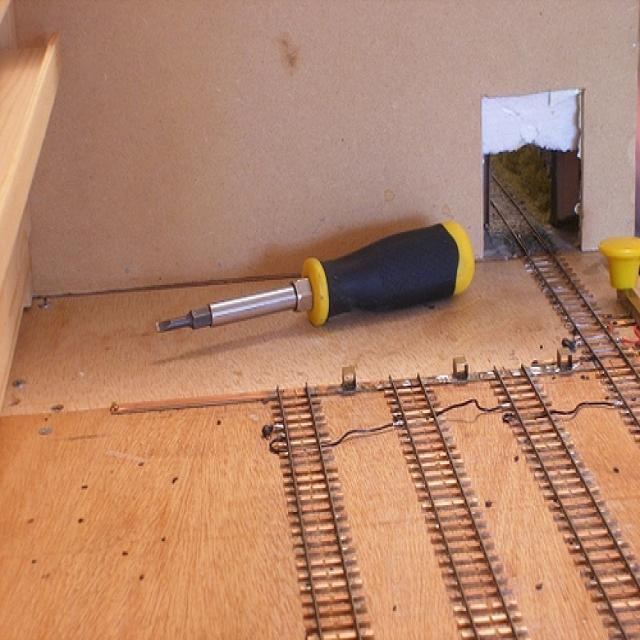screw driver: (137, 202, 575, 356)
